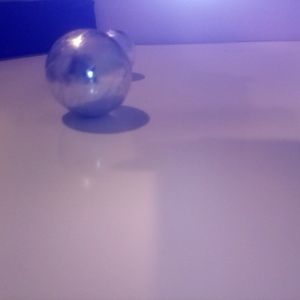alive_ball: (45, 28, 134, 119), (92, 29, 134, 71)
